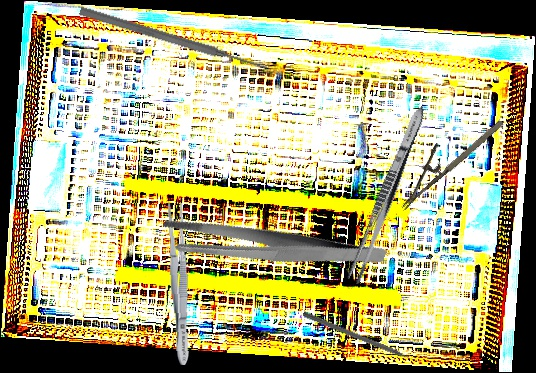Dressing Forceps: (156, 171, 388, 321), (344, 103, 430, 287), (164, 202, 194, 366)
Needle Holder: (383, 103, 507, 211)
Pusher: (78, 4, 269, 75), (301, 310, 425, 369)
